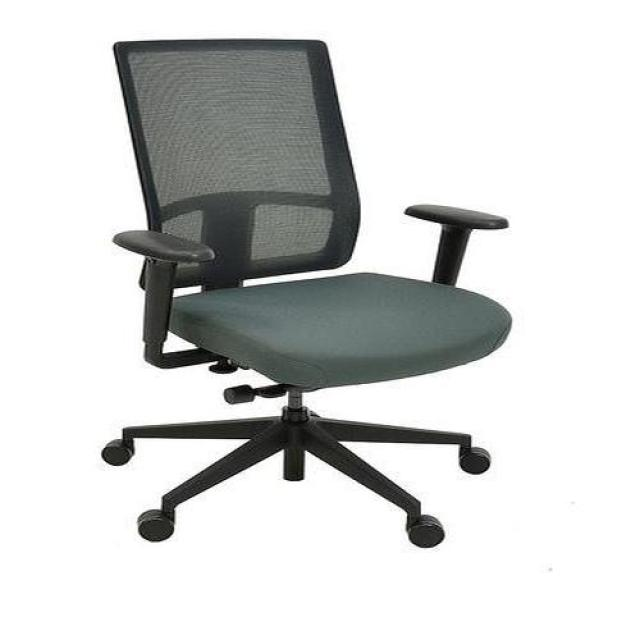swivelchair: (102, 40, 515, 550)
